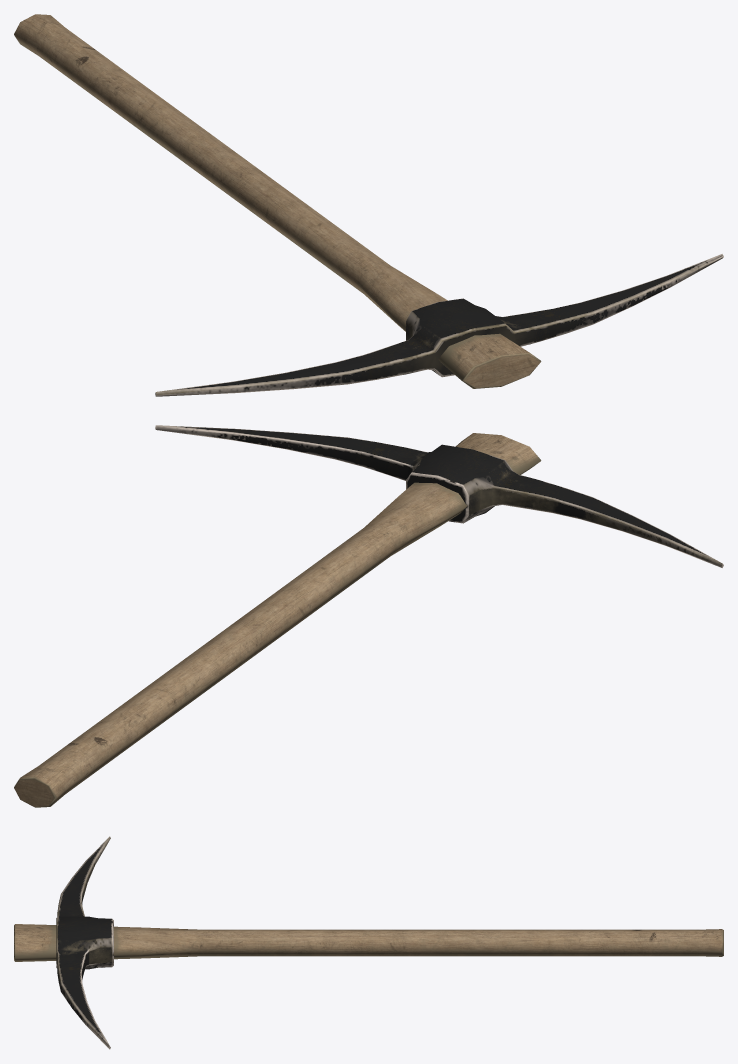
File: Pickaxe.fbx
3 renders of one model, top to bottom at view 1: azimuth 30°, elevation 25°; view 2: azimuth 150°, elevation 25°; view 3: azimuth 270°, elevation 25°, orthographic. The views are drawn at different scales.
Visible parts, largest first — view 1: Pickaxe; view 2: Pickaxe; view 3: Pickaxe.
Part boxes in pixels (box(x1,y1,x2,y2)): Pickaxe: box(14, 14, 723, 396); Pickaxe: box(14, 425, 723, 807); Pickaxe: box(14, 836, 723, 1049).
Size of the model in its own units: 55.75 by 4.14 by 79.68.
1 material, 1 textured.
